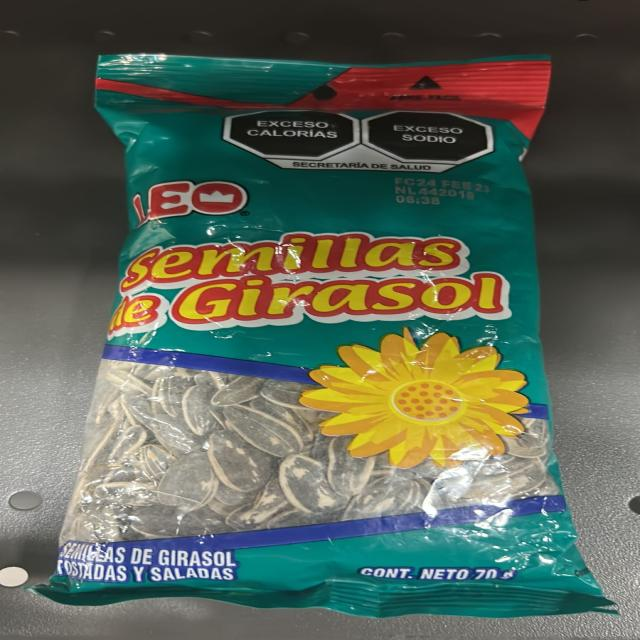semillasGirasol: (119, 73, 538, 618)
